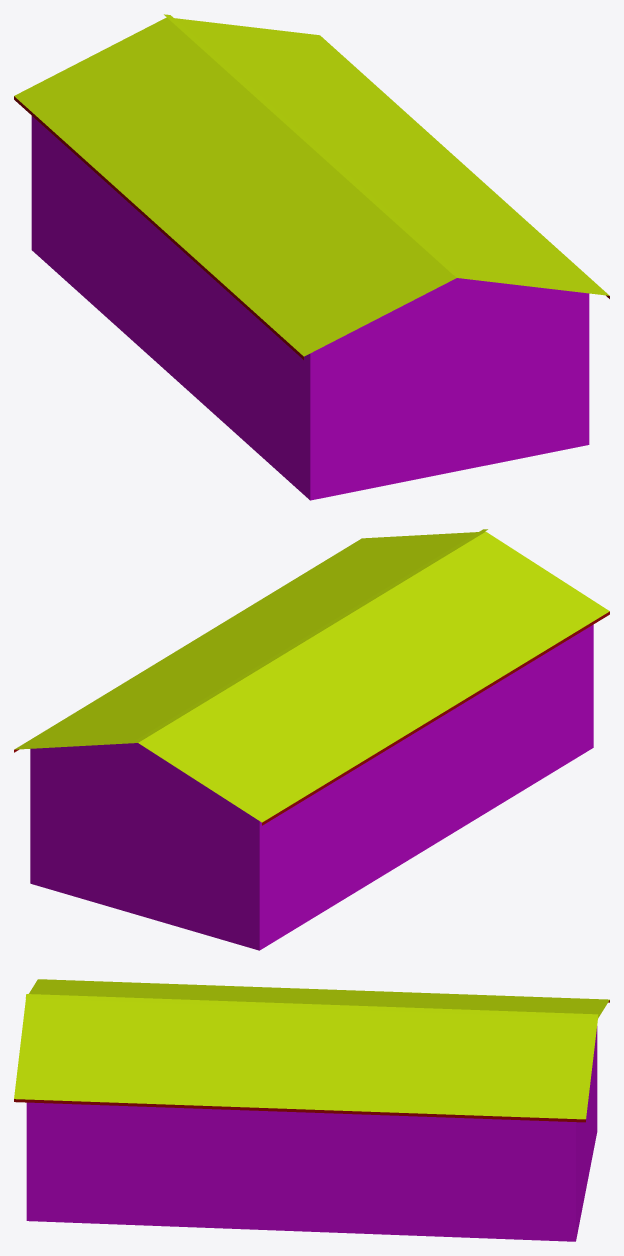
The model's file is niv_0.glb.
3 renders of one model, top to bottom at view 1: azimuth 30°, elevation 25°; view 2: azimuth 150°, elevation 25°; view 3: azimuth 270°, elevation 25°, orthographic. The views are drawn at different scales.
Visible parts, largest first — view 1: niv_0; view 2: niv_0; view 3: niv_0.
Boxes of the visible parts, left/top/right/bottom form: niv_0: left=14, top=14, right=609, bottom=500; niv_0: left=14, top=529, right=609, bottom=950; niv_0: left=14, top=979, right=609, bottom=1241.
Bounding box in the file's own units: 12.01 × 6.83 × 21.56.
